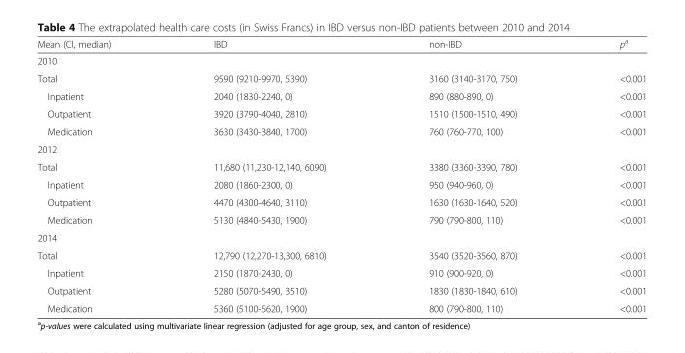table: (36, 36, 646, 313)
table column: (161, 36, 376, 313), (376, 36, 567, 313), (36, 36, 161, 313), (567, 36, 646, 313)
table column header: (36, 36, 646, 52)
table projected row header: (36, 228, 646, 246), (36, 52, 646, 69), (36, 140, 646, 157)
table row: (36, 86, 646, 104), (36, 104, 646, 122), (36, 122, 646, 140), (36, 157, 646, 175), (36, 175, 646, 193), (36, 210, 646, 228), (36, 228, 646, 246), (36, 263, 646, 281), (36, 281, 646, 299), (36, 52, 646, 69), (36, 69, 646, 86), (36, 140, 646, 157), (36, 193, 646, 210), (36, 246, 646, 263), (36, 36, 646, 52), (36, 299, 646, 313)
